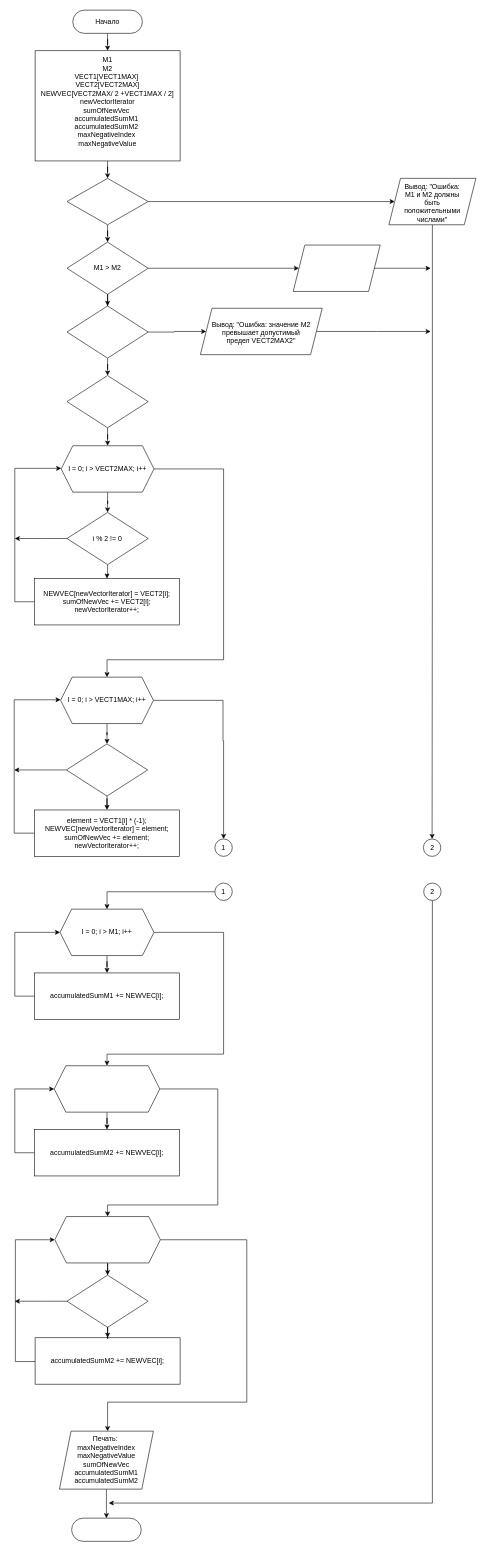
Some shapes in this 486 by 1552 pixel diagram are drawn without their labels. Here are the shapes that lost their labels. From the top down, the centre of each, then its label:
(x=107, y=201): M1 < 0 или M2 < 0
(x=336, y=267): Вывод: "Ошибка: M1 должно быть меньше чем M2"
(x=107, y=331): M2 > VECT2MAX
(x=107, y=401): M2 > длинны NEWVEC
(x=107, y=769): i % 2 == 0
(x=107, y=1088): I = NEWVEC.size(); i > NEWVEC.size() - M2; i--;
(x=107, y=1239): I = M1; i < M2; i++;
(x=107, y=1301): NEWVEC[i] < maxNegativeValue
(x=106, y=1529): Конец
